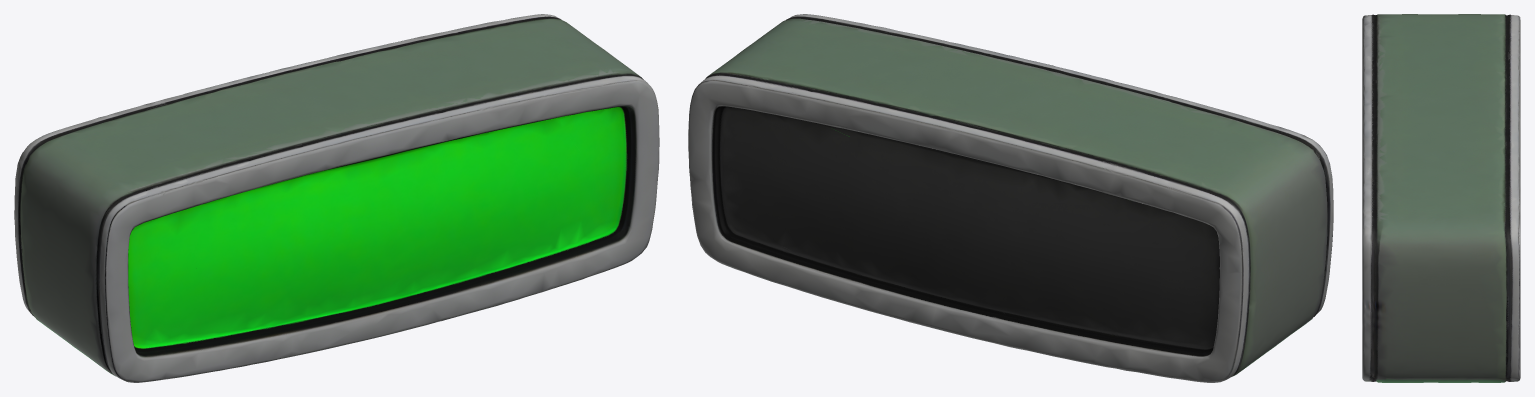
Rendered from VR-Green.glb.
The picture shows the model from 3 angles, left to right: view 1: azimuth 30°, elevation 25°; view 2: azimuth 150°, elevation 25°; view 3: azimuth 270°, elevation 25°; orthographic projection. The views are drawn at different scales.
Parts seen in each view (by area): view 1: Mesh_0.004; view 2: Mesh_0.004; view 3: Mesh_0.004.
Part boxes in pixels (left/top/right/bottom): Mesh_0.004: left=14, top=14, right=659, bottom=382; Mesh_0.004: left=688, top=14, right=1333, bottom=382; Mesh_0.004: left=1362, top=14, right=1520, bottom=382.
Size of the model in its own units: 0.4724 by 0.1683 by 0.1351.
Materials: 1 (1 with a texture image).
